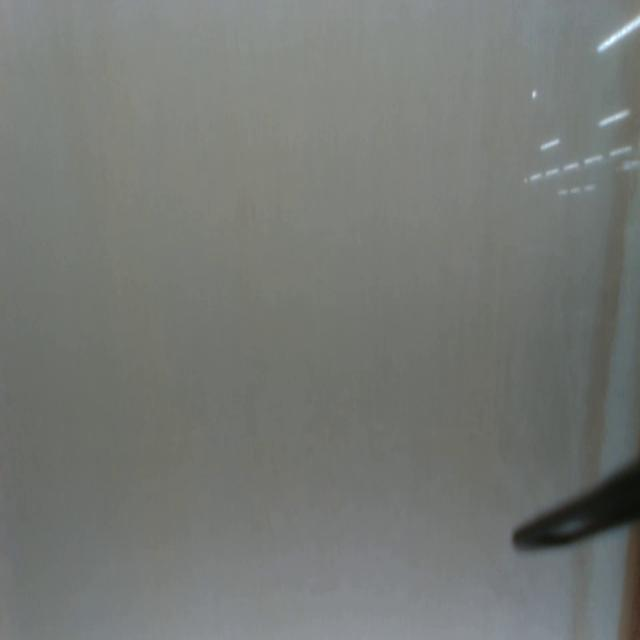color bleeding: (611, 529, 640, 638)
